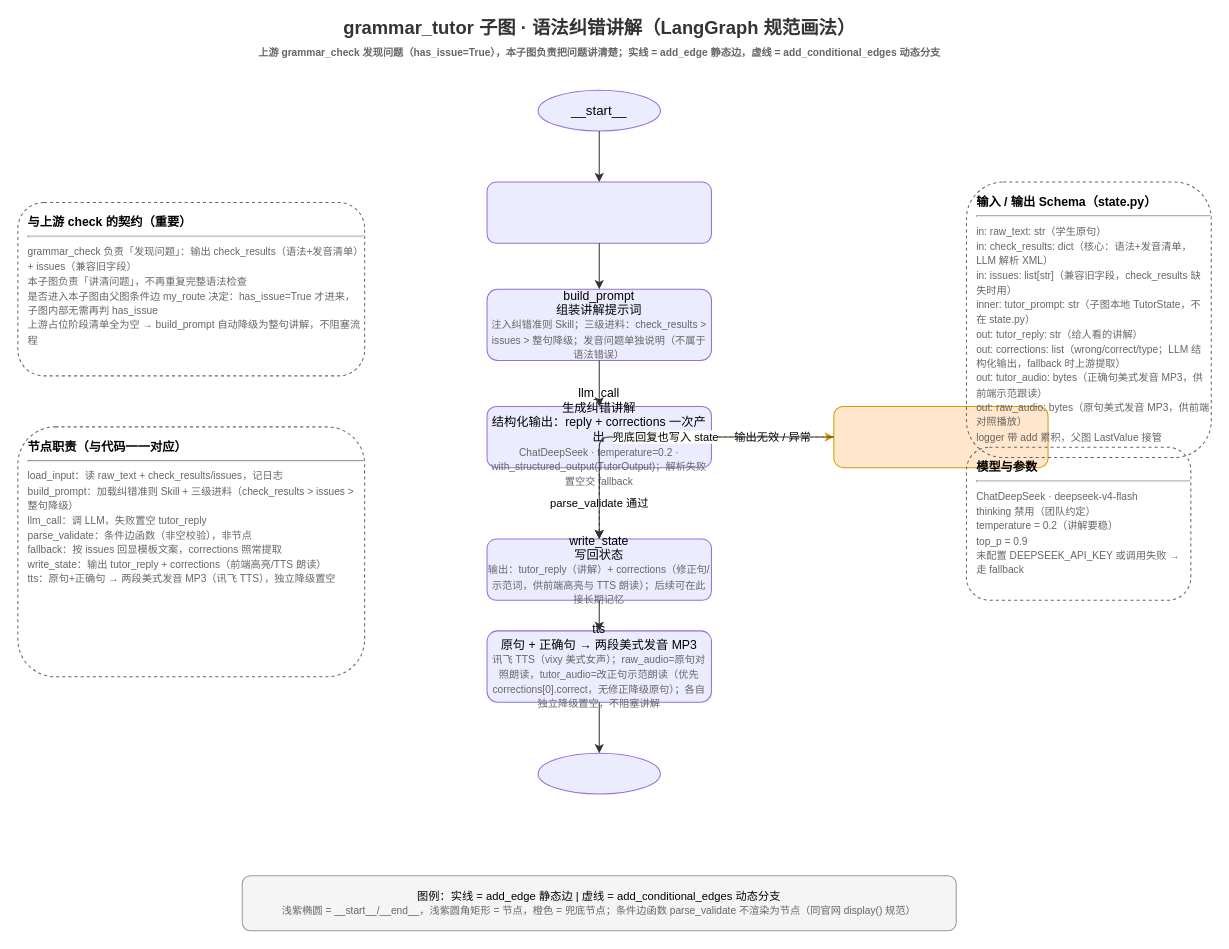
Some shapes in this 1229 by 949 pixel diagram are drawn without their labels. The shapes that lost their labels are listed below. From the top down, each one's box as (x1, y1, x2, y2) in pixels, then its label:
(486, 181, 711, 243): load_input 读取上游结果 输入：raw_text（原句）, check_results / issues（可空）
(833, 405, 1048, 468): fallback 模板兜底 按 issues 逐条回显模板文案；corrections 照常提取，前端数据不断供
(537, 752, 660, 794): __end__
